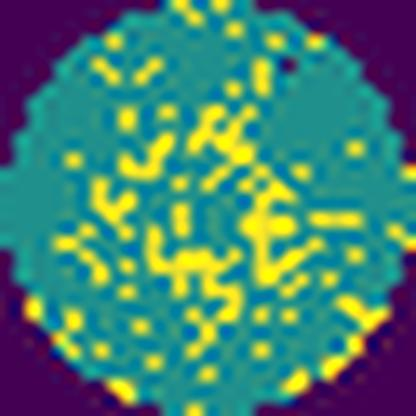Donut: (74, 78, 333, 354)
